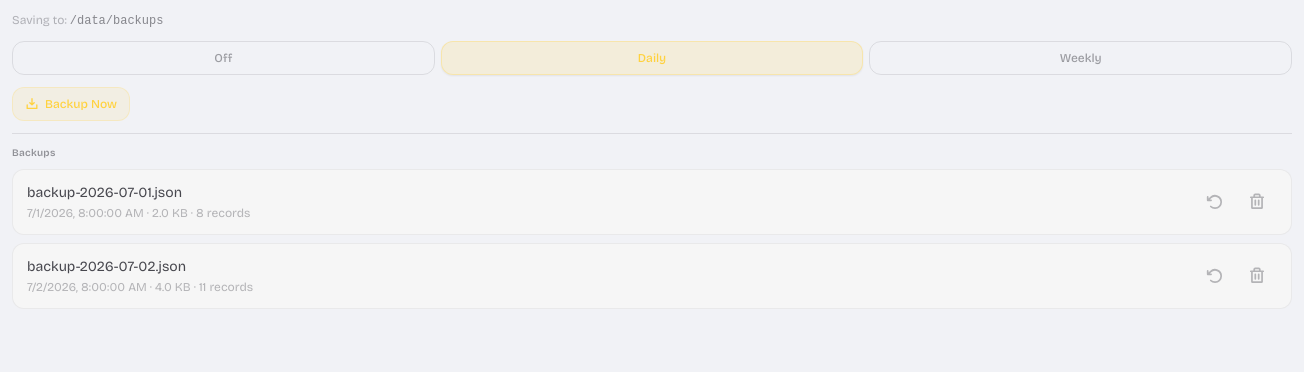
Test: BackupSection › deletes a backup after confirmation
Check: the text "backup-2026-07-02.json" is shown, box [27,258,186,275]
Click the button named "Delete backup-2026-07-02.json": (1257, 276) [1237,256,1277,296]
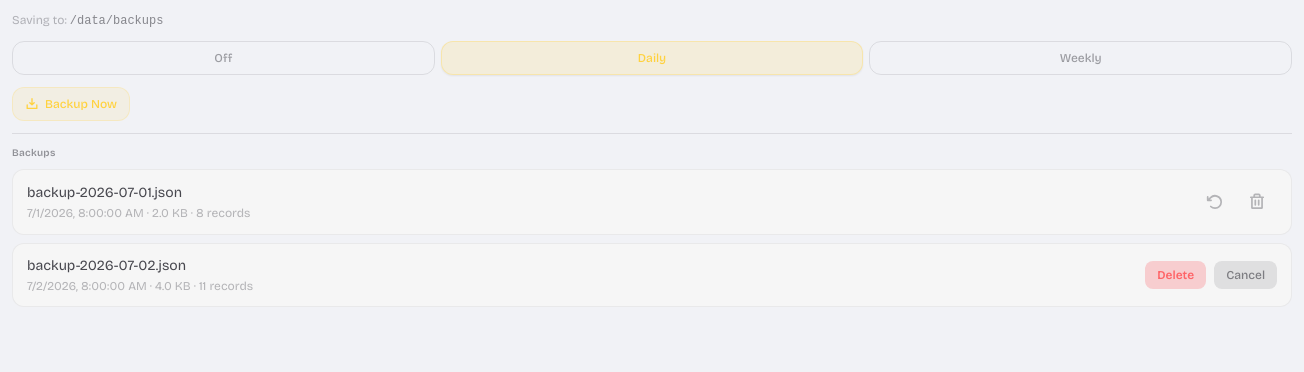
Click the button with aria-label "Confirm delete": (1176, 275) [1145,261,1206,289]
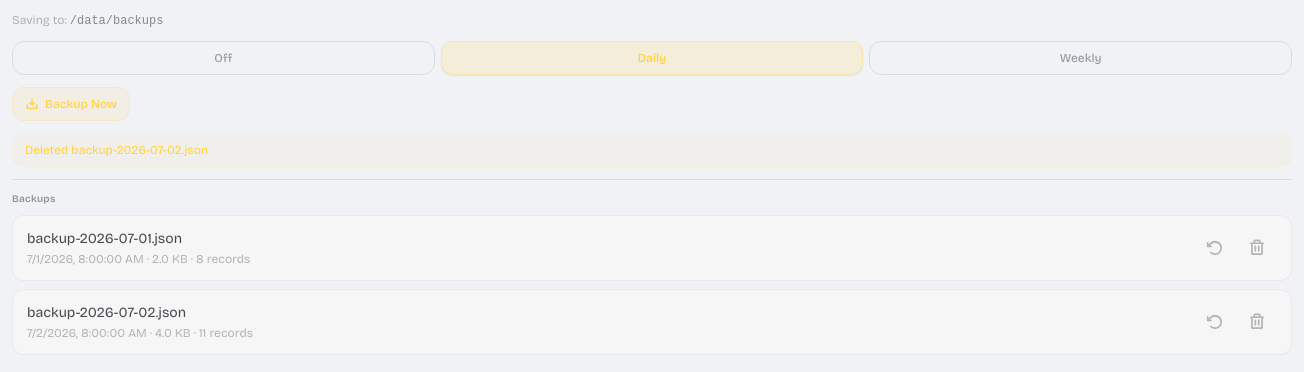
Check: the text "Deleted backup-2026-07-02.json" is shown, box [12,133,1292,167]
